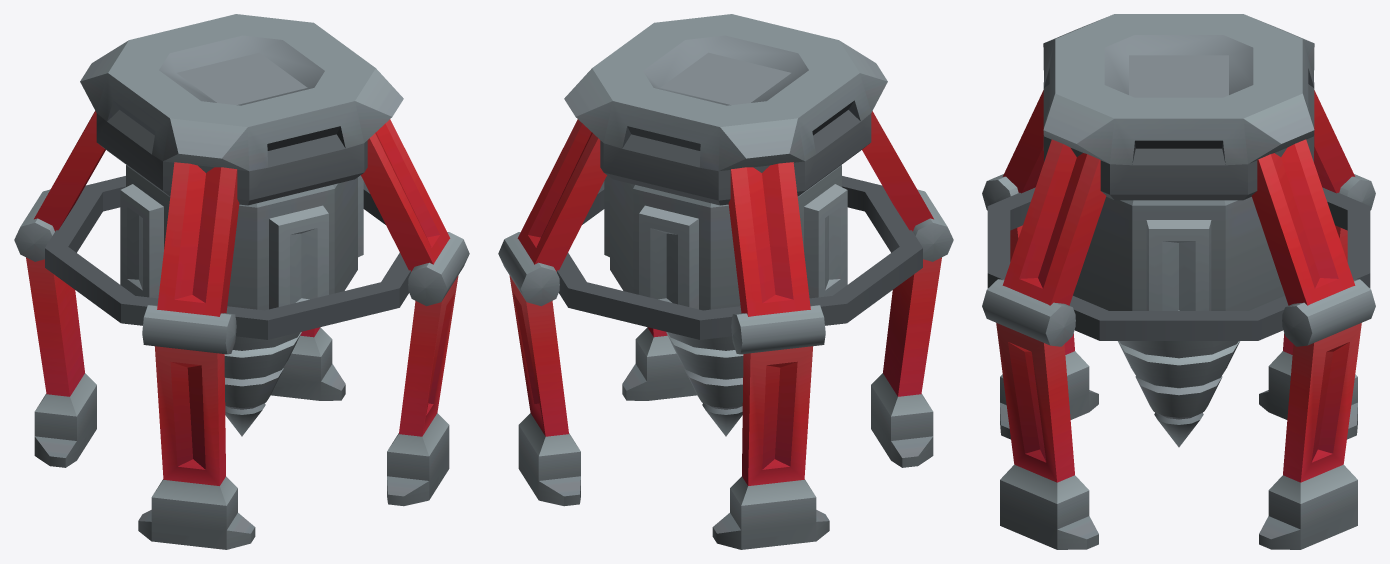
File: drill_structure.gltf
3 renders of one model, left to right at view 1: azimuth 30°, elevation 25°; view 2: azimuth 150°, elevation 25°; view 3: azimuth 270°, elevation 25°, orthographic. The views are drawn at different scales.
Visible parts, largest first — view 1: drill_structure, drill_module; view 2: drill_structure, drill_module; view 3: drill_structure, drill_module.
Part boxes in pixels (x1=…): drill_structure: x1=14, y1=14, x2=469, y2=549; drill_module: x1=120, y1=165, x2=363, y2=436; drill_structure: x1=498, y1=14, x2=953, y2=549; drill_module: x1=604, y1=165, x2=847, y2=436; drill_structure: x1=982, y1=14, x2=1375, y2=549; drill_module: x1=1073, y1=197, x2=1284, y2=447.
Size of the model in its own units: 1.75 by 2 by 1.75.
Materials: 1 (1 with a texture image).
